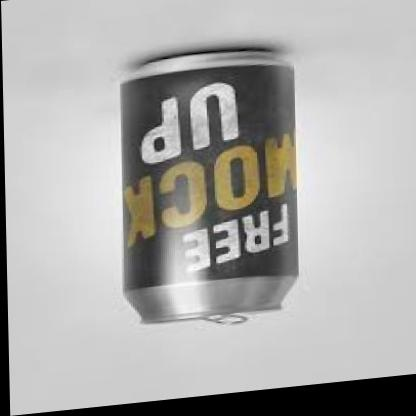trash: (121, 49, 297, 321)
